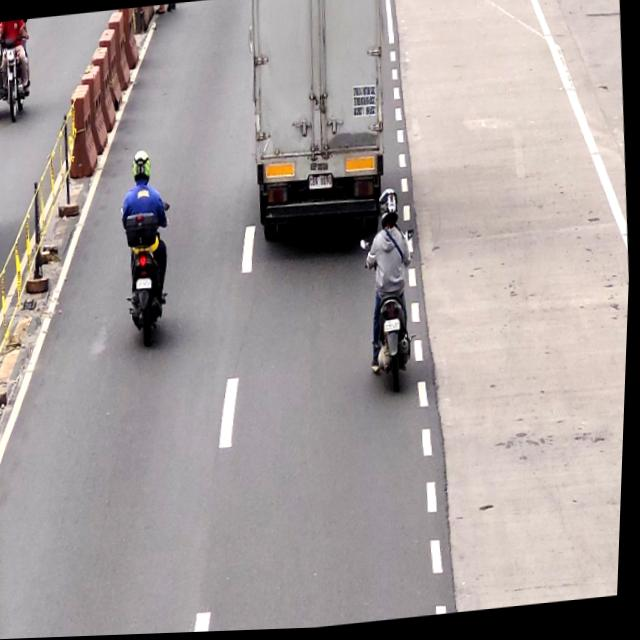License-Plate: (135, 277, 158, 295), (383, 319, 406, 337), (309, 176, 335, 190)
Motorcycle: (112, 154, 176, 348), (364, 190, 423, 395)
Truck: (245, 0, 400, 245)
